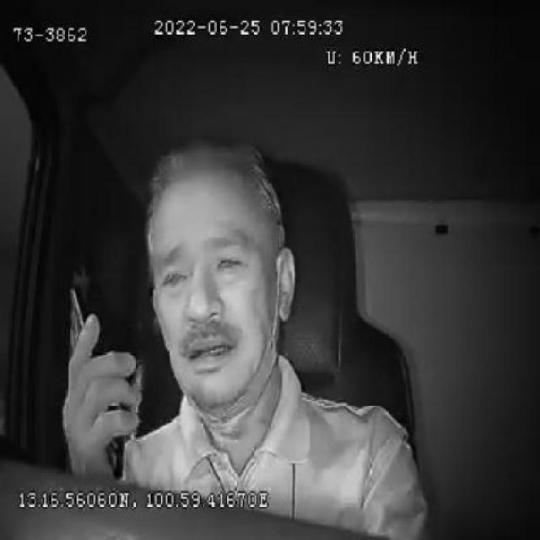phone: (64, 282, 126, 484)
